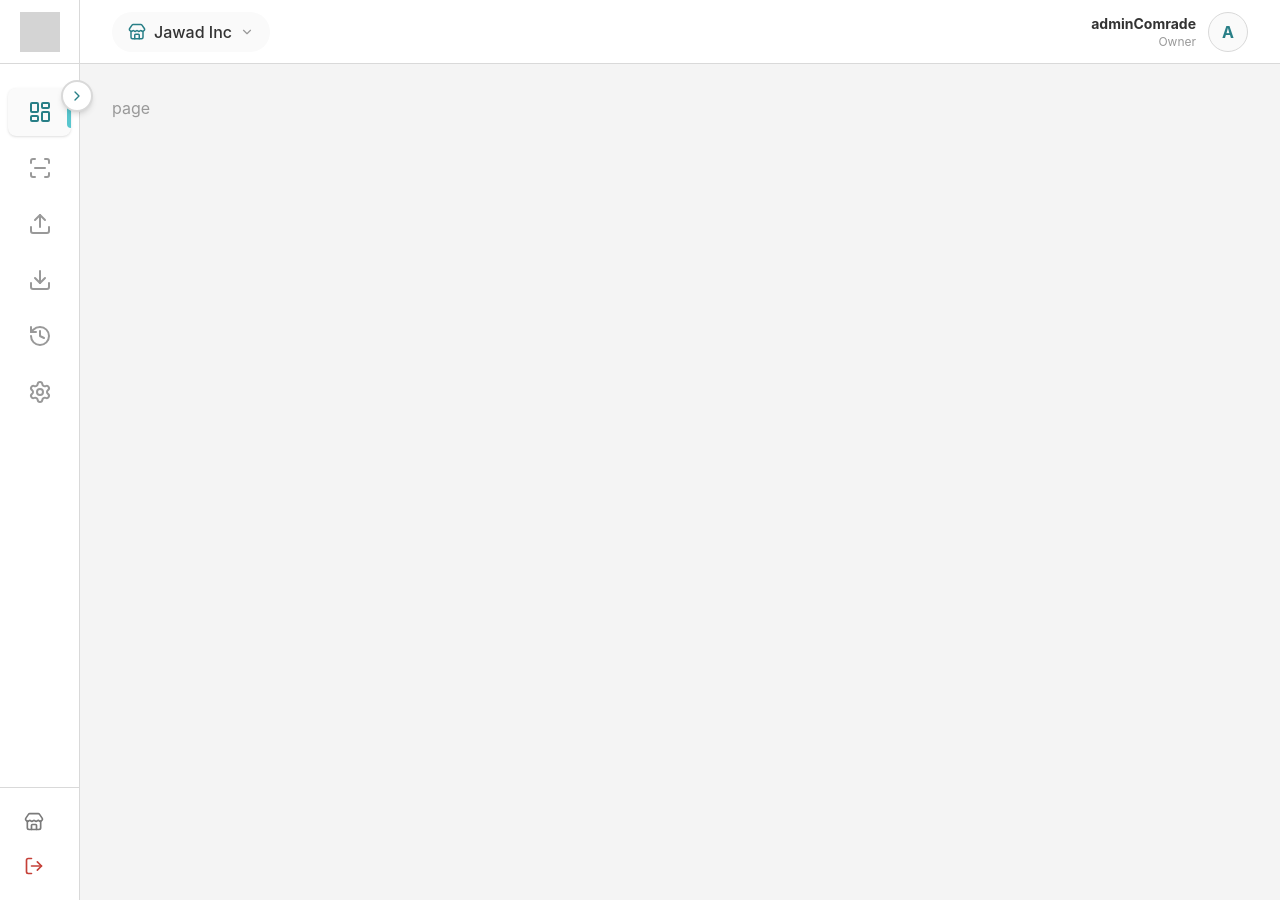
top-bar store switcher › greys out a suspended store and says it is suspended
Step 1. Click the button "Jawad Inc" → (191, 32), box x1=112 y1=12 x2=270 y2=52
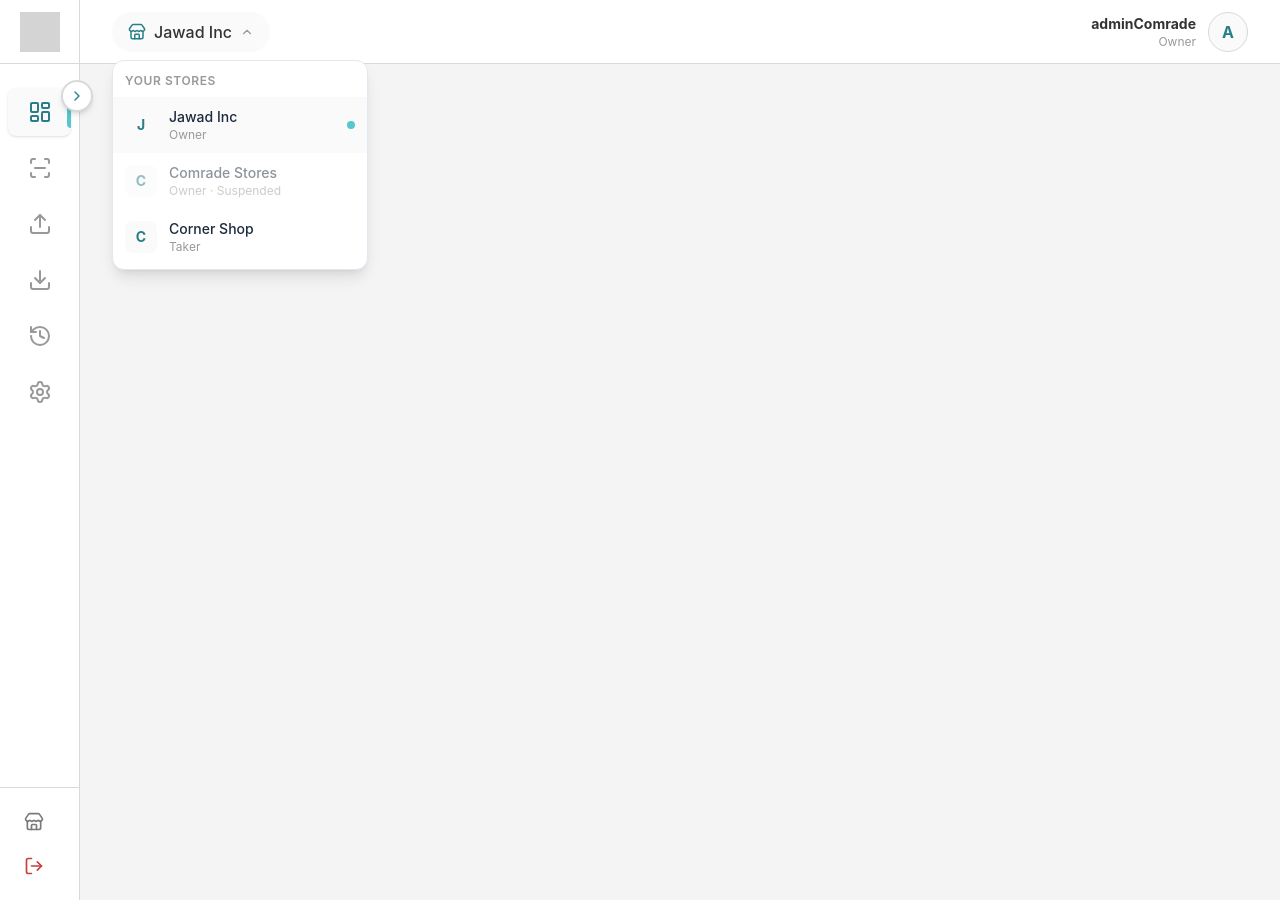
expect the button "C Comrade Stores owner · suspended" is disabled: met, box x1=113 y1=152 x2=367 y2=208
expect the button "C Comrade Stores owner · suspended" is shown: met, box x1=113 y1=152 x2=367 y2=208
expect the button "C Corner Shop taker" is enabled: met, box x1=113 y1=208 x2=367 y2=264
